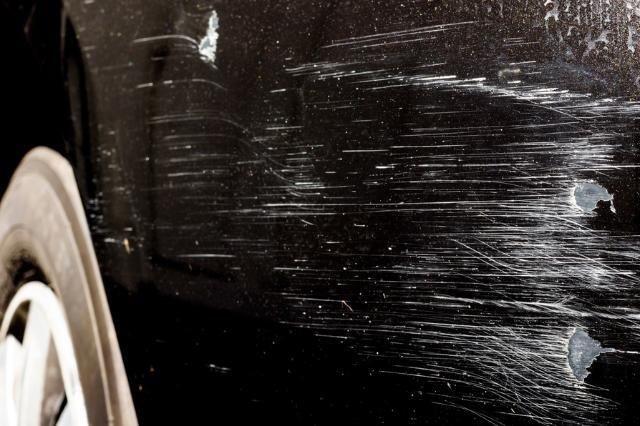Bumper: (66, 3, 640, 426)
